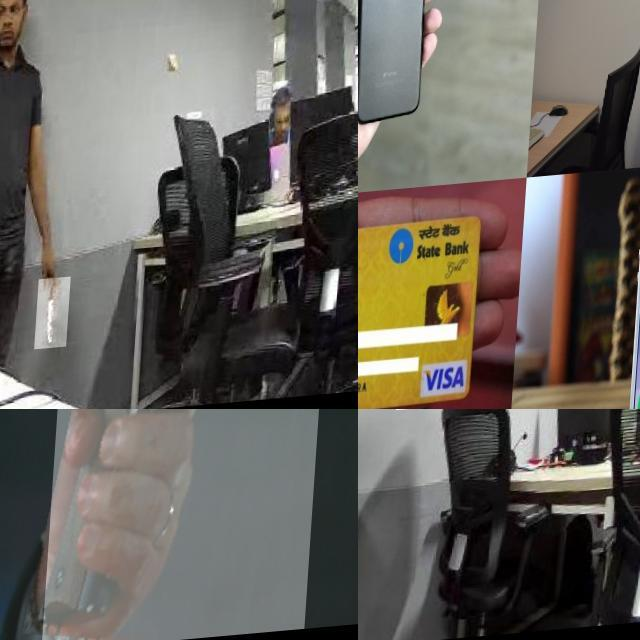-: (42, 283, 78, 355), (401, 409, 435, 453)
gun-knife-thesis - v11 Yolov5 augmented: (50, 409, 341, 640)
